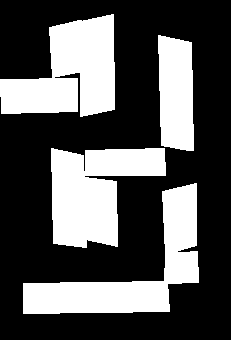parkingspot: (23, 281, 169, 313), (158, 35, 193, 150), (80, 14, 114, 116), (51, 148, 86, 247), (0, 78, 77, 113), (162, 183, 196, 254), (85, 177, 117, 246), (85, 148, 165, 175), (49, 20, 82, 77), (164, 251, 198, 283)
